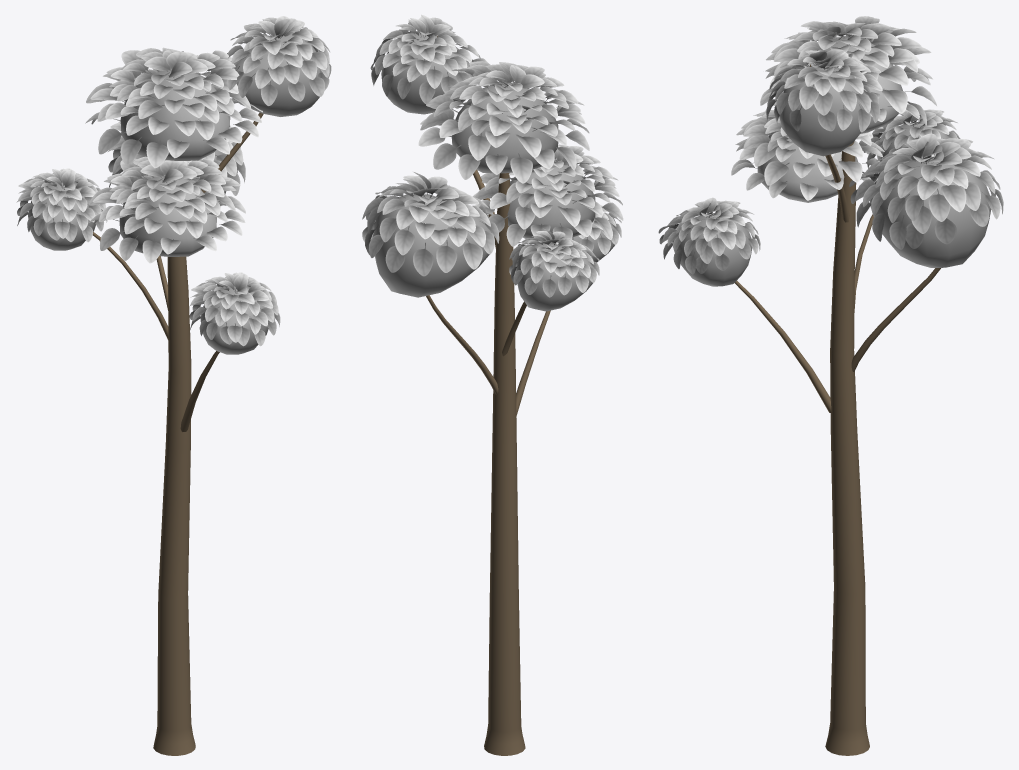
File: Eucaliptyus.fbx
3 views of the same model, side by side, from view 1: azimuth 30°, elevation 25°; view 2: azimuth 150°, elevation 25°; view 3: azimuth 270°, elevation 25° (orthographic). The views are drawn at different scales.
Visible parts, largest first — view 1: Eucaliptyus; view 2: Eucaliptyus; view 3: Eucaliptyus.
Part boxes in pixels (x1,y1,x2,y2): Eucaliptyus: (16, 16, 331, 755); Eucaliptyus: (362, 14, 623, 755); Eucaliptyus: (658, 16, 1003, 755).
Bounding box in the file's own units: 118 × 306 × 130.
